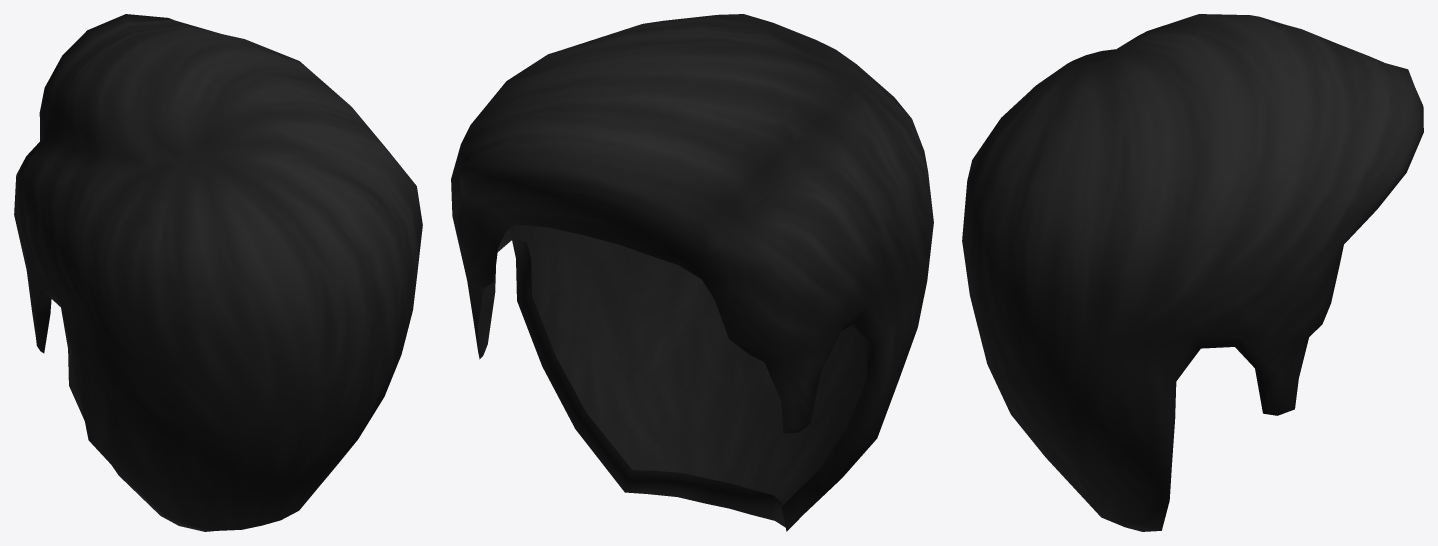
File: Hair_Male_002_textured_black.glb
The picture shows the model from 3 angles, left to right: view 1: azimuth 30°, elevation 25°; view 2: azimuth 150°, elevation 25°; view 3: azimuth 270°, elevation 25°; orthographic projection. The views are drawn at different scales.
Visible parts, largest first — view 1: Hair_Male_002; view 2: Hair_Male_002; view 3: Hair_Male_002.
Boxes of the visible parts, x1,y1,x2,y2 form: Hair_Male_002: [14, 14, 422, 531]; Hair_Male_002: [451, 14, 933, 531]; Hair_Male_002: [962, 14, 1423, 531].
Size of the model in its own units: 0.1882 by 0.2415 by 0.2192.
Materials: 1 (1 with a texture image).
